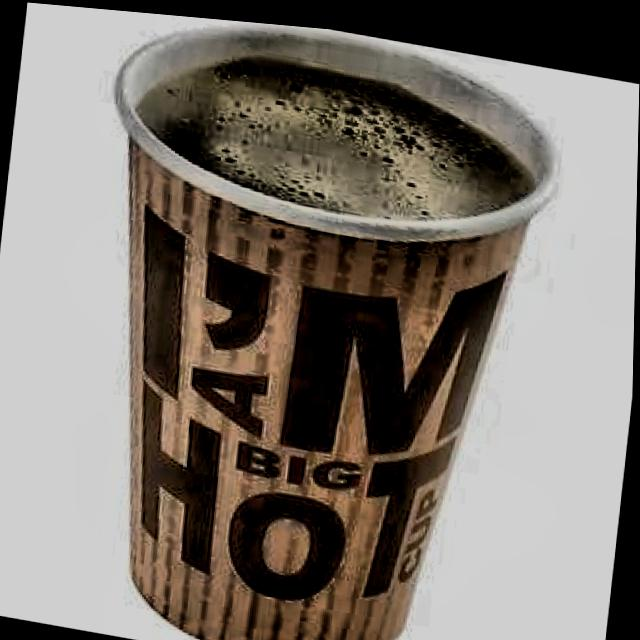Cup: (57, 5, 585, 640)
